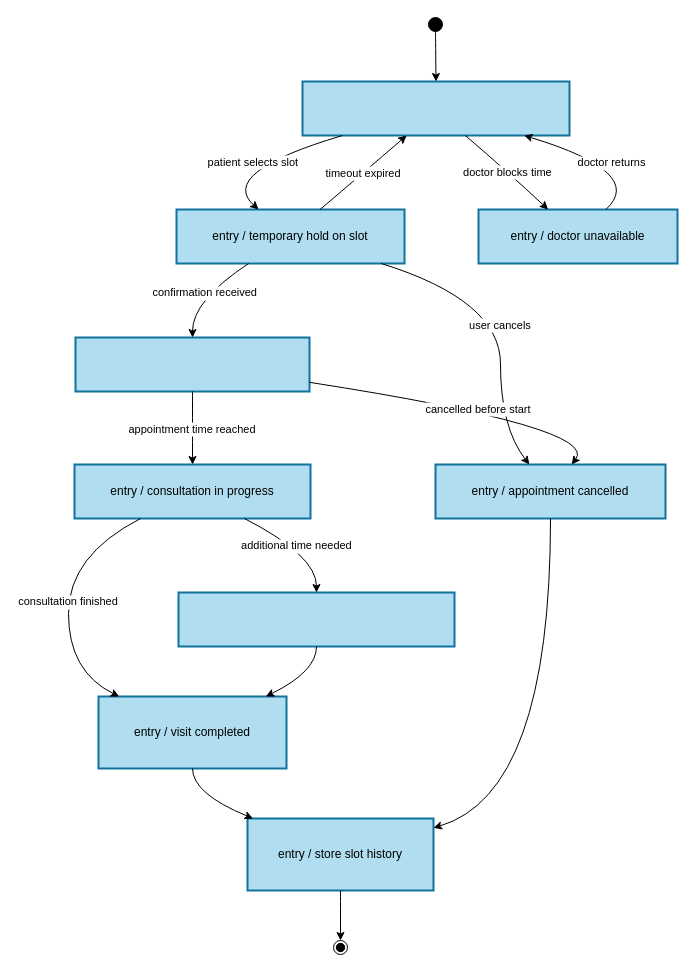
This 695x972 diagram has some shape labels left out. Each missing label, with the centre of its shape:
"entry / appointment confirmed" belongs at point (192, 364).
"entry / doctor available for booking" belongs at point (435, 108).
"entry / extend appointment duration" belongs at point (316, 619).
